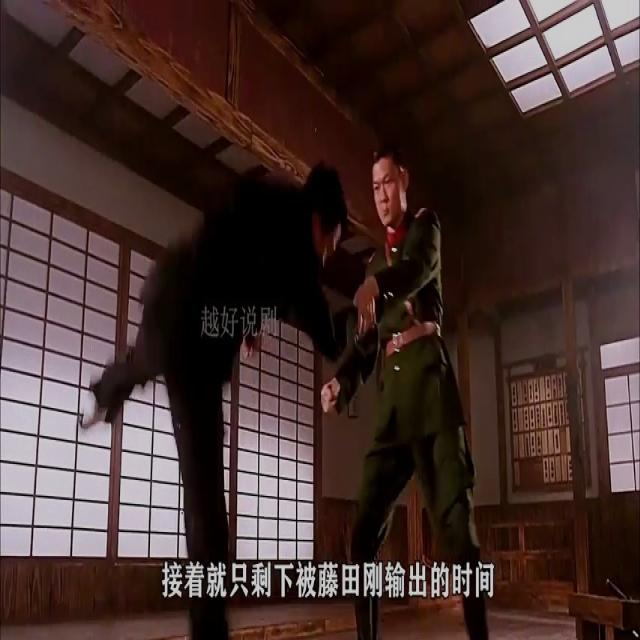fight: (82, 146, 488, 640)
